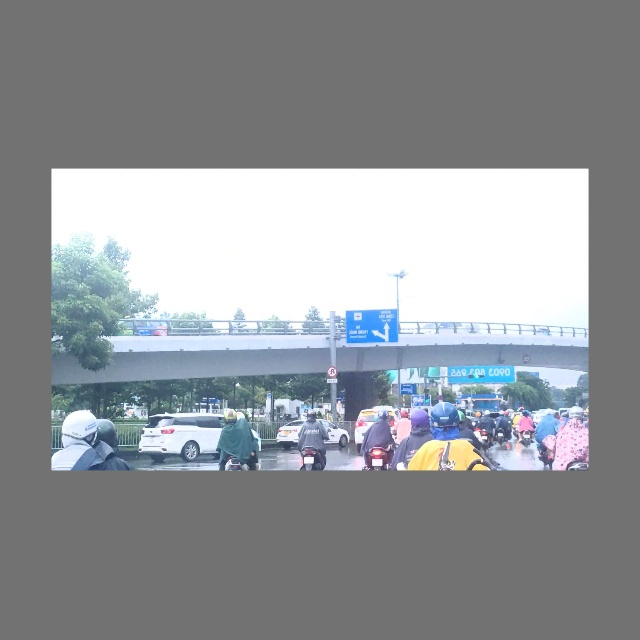P.124b1: (325, 365, 339, 380)
